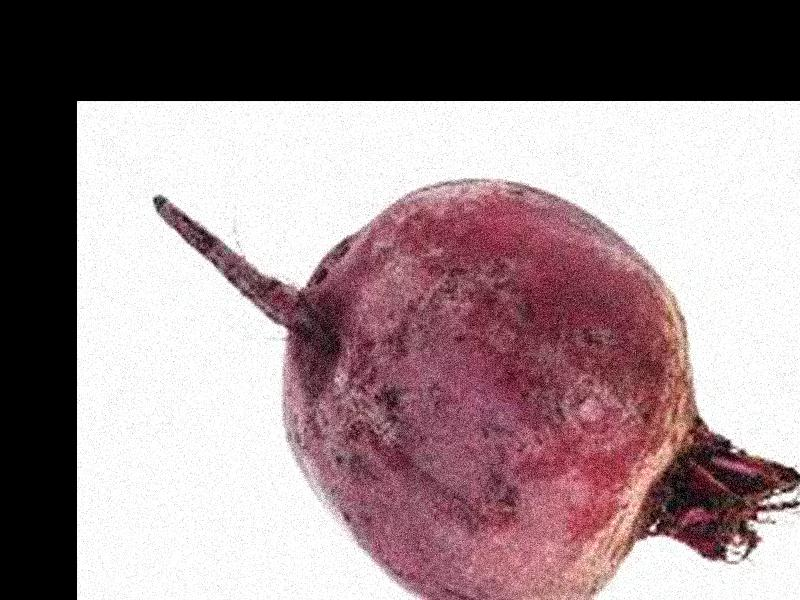Beet: (154, 178, 800, 600)
